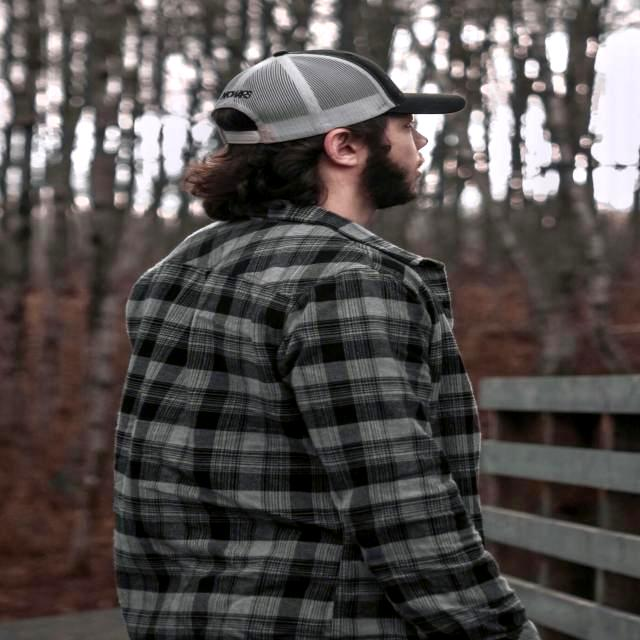no_hard_hat: (214, 50, 465, 144)
person: (114, 51, 539, 640)
